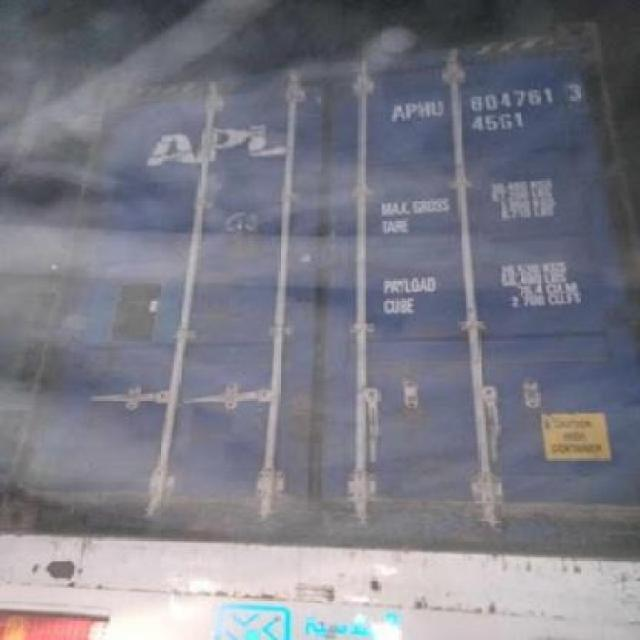ISO: (472, 114, 523, 131)
container_number: (390, 89, 578, 121)
